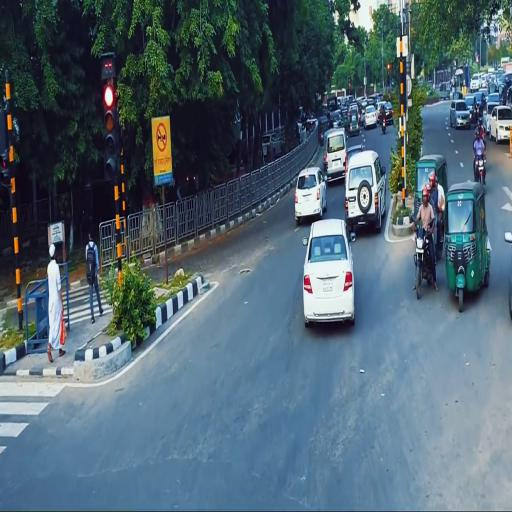car: (300, 216, 359, 335), (293, 164, 330, 228), (450, 97, 473, 134)
motorbike: (408, 218, 434, 301), (471, 153, 490, 191)
suv: (345, 147, 388, 235)
three wheelers (CNG): (445, 180, 491, 319), (349, 109, 360, 138)
van: (325, 129, 350, 185)
